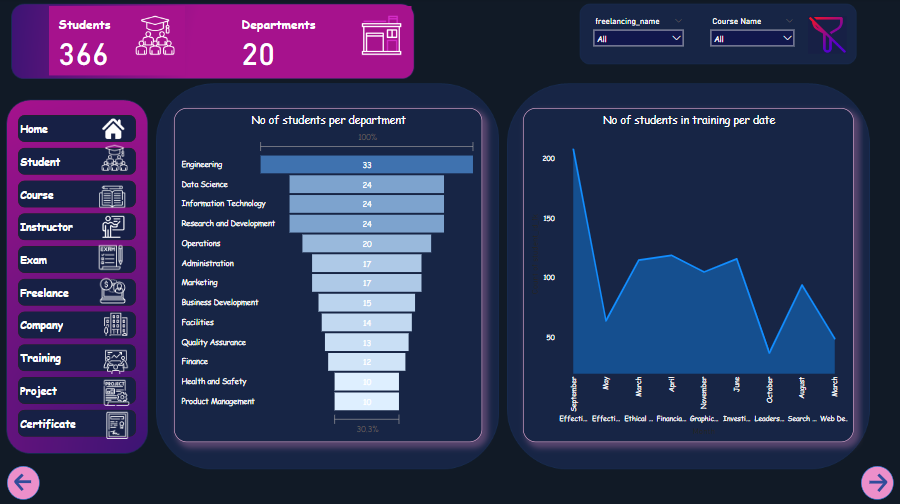

The dashboard page shown, as its layout file describes it:
{"tool":"powerbi","page":{"name":"student3","canvas":[1600,900],"ordinal":4},"visuals":[{"type":"funnel","title":"No of students per department","fields":{"Category":["Dim_Student.dept_name"],"Y":["Count(Dim_Student.st_id_sk)"]},"box":[313.6,194.9,545.7,591.7],"z":0},{"type":"cardVisual","fields":{"Data":["Count(Dim_Student.dept_name)"]},"box":[416.9,14.2,317.6,111.8],"z":1000},{"type":"cardVisual","fields":{"Data":["CountNonNull(Dim_Student.st_id_sk)"]},"box":[92.4,14.5,240.9,123.2],"z":2000},{"type":"slicer","fields":{"Values":["Fact_table.crs_name"]},"box":[1254.3,28.3,168.3,70.9],"z":3000},{"type":"slicer","fields":{"Values":["Dim_Student.freelancing_name"]},"box":[1047,28.3,178.9,74.4],"z":4000},{"type":"areaChart","title":"No of students in training per date","fields":{"Category":["Dim_Hiring.training_name","Dim_Hiring.training_startdate.Variation.Date Hierarchy.Month"],"Y":["CountNonNull(Fact_table.student_id_fk)"]},"box":[931.9,194.9,586.4,591.7],"z":5000},{"type":"pageNavigator","box":[37.2,207.3,209.1,579.3],"z":6000},{"type":"actionButton","box":[1436.8,31.9,69.1,67.3],"z":7000},{"type":"image","box":[166.6,206.5,79.7,48.9],"z":8000},{"type":"image","box":[168.5,255.4,79.7,56.2],"z":9000},{"type":"image","box":[172.1,380.4,68.8,48.9],"z":10000},{"type":"image","box":[168.5,429.3,65.2,61.6],"z":11000},{"type":"image","box":[161.2,324.2,85.1,56.2],"z":12000},{"type":"image","box":[170.3,490.9,70.6,56.2],"z":13000},{"type":"image","box":[179.3,552.5,63.4,50.7],"z":14000},{"type":"image","box":[175.7,617.7,70.6,54.3],"z":15000},{"type":"image","box":[163,728.2,99.6,58],"z":16000},{"type":"image","box":[172.1,672,79.7,56.2],"z":17000},{"type":"group","id":"g1","title":"Group 1","box":[1530.6,829.6,58,59.8],"z":18000},{"type":"group","id":"g2","title":"Group 2","box":[18.1,829.6,61.6,59.8],"z":19000},{"type":"shape","box":[1530.6,829.6,58,59.8],"z":19000,"group":"g1"},{"type":"actionButton","box":[1539.7,838.7,48.9,41.7],"z":20000,"group":"g1"},{"type":"shape","box":[18.1,829.6,58,59.8],"z":20500,"group":"g2"},{"type":"actionButton","box":[27.2,838.7,52.5,39.8],"z":21000,"group":"g2"}]}

Visuals, with their boxes in screenshot pixels (x1, y1, x2, y2), scaled from the page's 1600x900 canvas onto the 900x504 screenshot:
"No of students per department" funnel: 176, 109, 483, 440
cardVisual - Count(Dim_Student.dept_name): 235, 8, 413, 71
cardVisual - CountNonNull(Dim_Student.st_id_sk): 52, 8, 187, 77
slicer - Fact_table.crs_name: 706, 16, 800, 56
slicer - Dim_Student.freelancing_name: 589, 16, 690, 58
"No of students in training per date" areaChart: 524, 109, 854, 440
pageNavigator: 21, 116, 139, 440
actionButton: 808, 18, 847, 56
image: 94, 116, 139, 143
image: 95, 143, 140, 174
image: 97, 213, 136, 240
image: 95, 240, 131, 275
image: 91, 182, 139, 213
image: 96, 275, 136, 306
image: 101, 309, 137, 338
image: 99, 346, 139, 376
image: 92, 408, 148, 440
image: 97, 376, 142, 408
"Group 1" group: 861, 465, 894, 498
"Group 2" group: 10, 465, 45, 498
shape: 861, 465, 894, 498
actionButton: 866, 470, 894, 493
shape: 10, 465, 43, 498
actionButton: 15, 470, 45, 492
